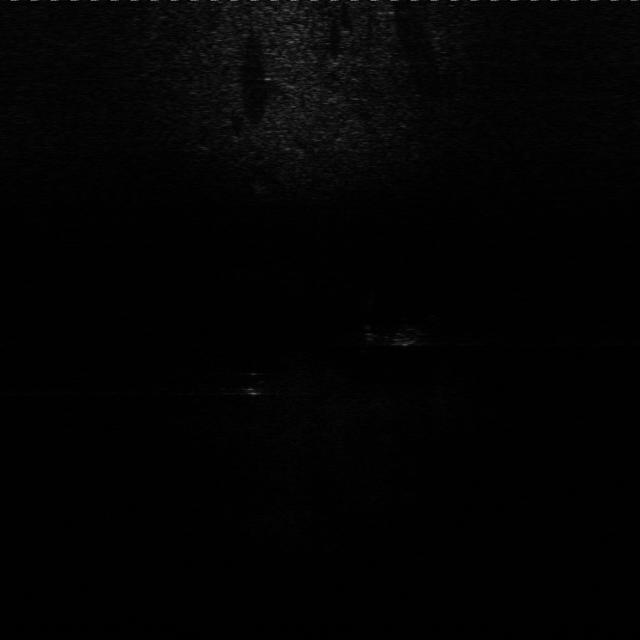ball: (234, 370, 276, 398)
human body: (357, 319, 438, 352)
